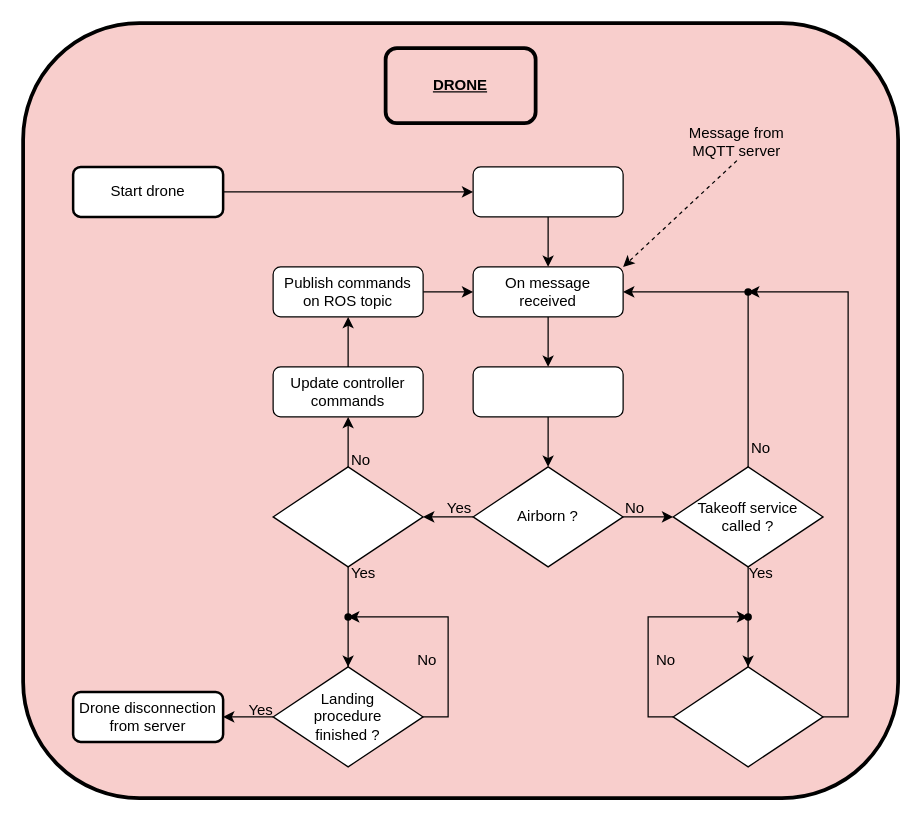
The diagram is 921 pixels wide and 821 high, and some of its shapes have lost their labels. The centre of each missing label's shape, as x and y in pixels:
Connection to MQTT server: [547,191]
Identify which instruction to do: [547,391]
Landing service called ?: [347,516]
Takeoff procedure finished ?: [747,716]
